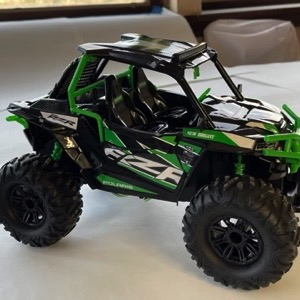polaris: (2, 33, 299, 291)
